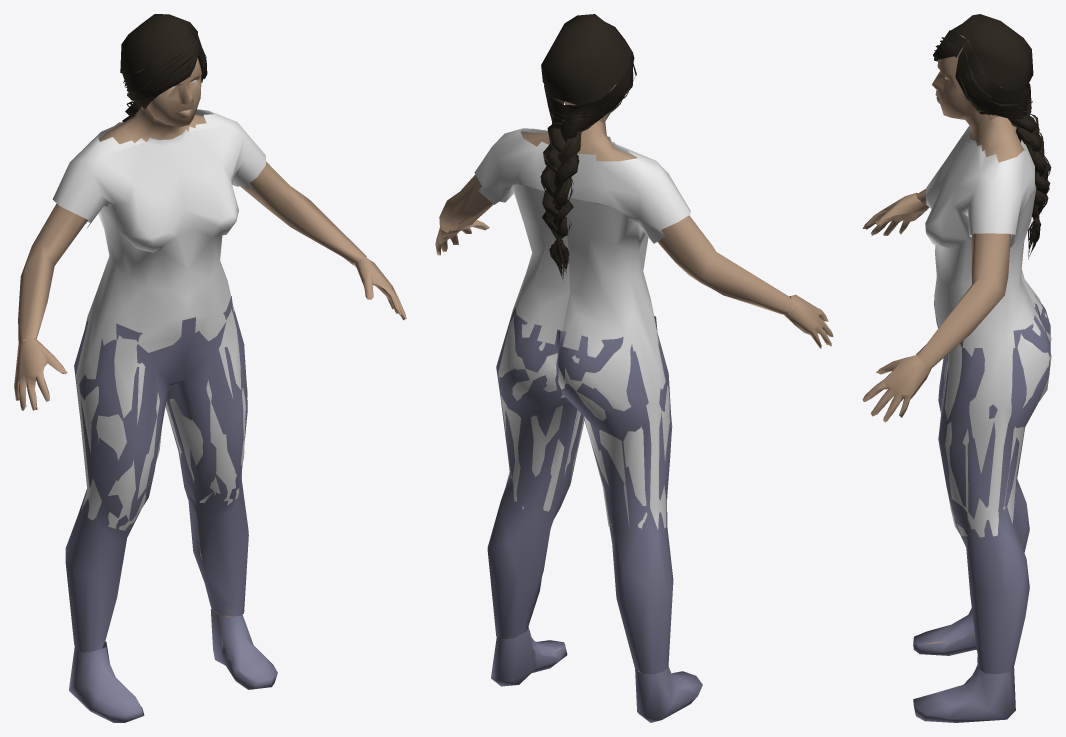
Rendered from woman_04.glb.
3 renders of one model, left to right at view 1: azimuth 30°, elevation 25°; view 2: azimuth 150°, elevation 25°; view 3: azimuth 270°, elevation 25°, orthographic.
Parts seen in each view (by area): view 1: crowd; view 2: crowd; view 3: crowd.
Part boxes in pixels (x1,y1,x2,y2): crowd: [14, 14, 406, 722]; crowd: [435, 14, 833, 722]; crowd: [862, 14, 1051, 722].
Size of the model in its own units: 0.9846 by 1.64 by 0.4216.
